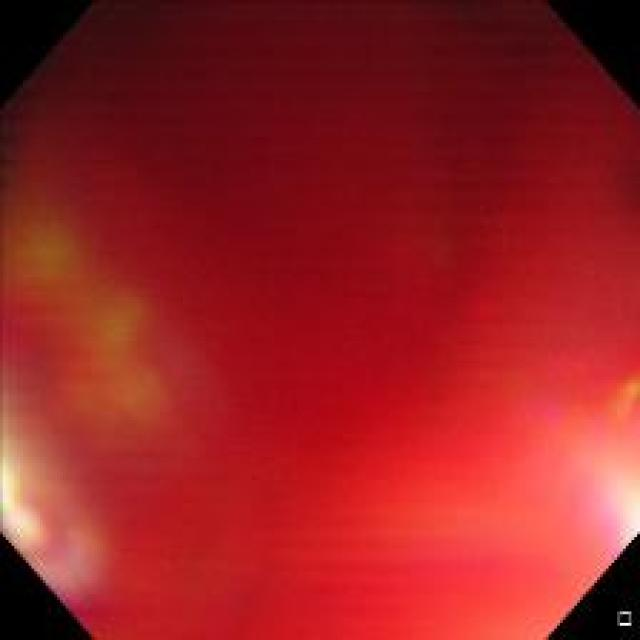color misalignment: (8, 11, 632, 630), (24, 238, 170, 414), (10, 426, 98, 592), (591, 444, 635, 554)
